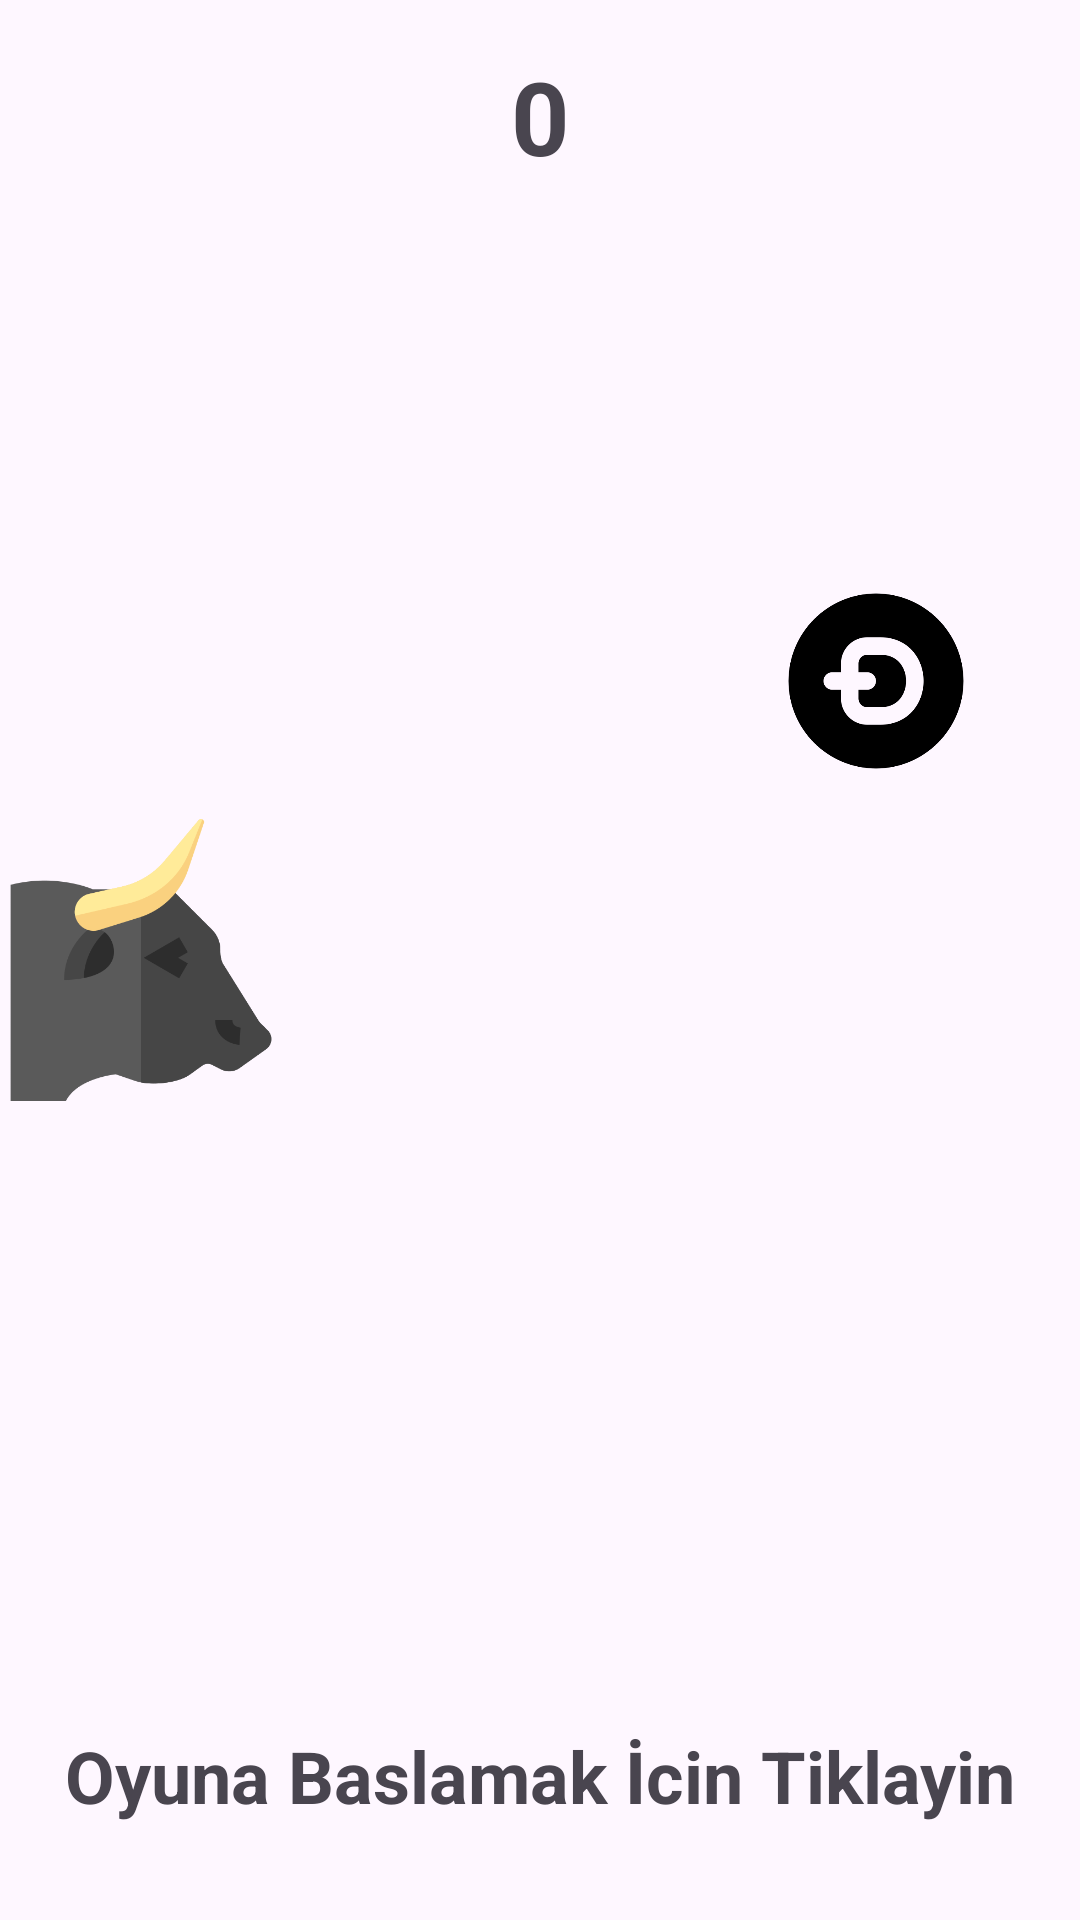

Icons on this 1080 × 1920 Android screen, each with its box as (x1, y1, x2, y2):
bull: (10, 819, 272, 1101)
